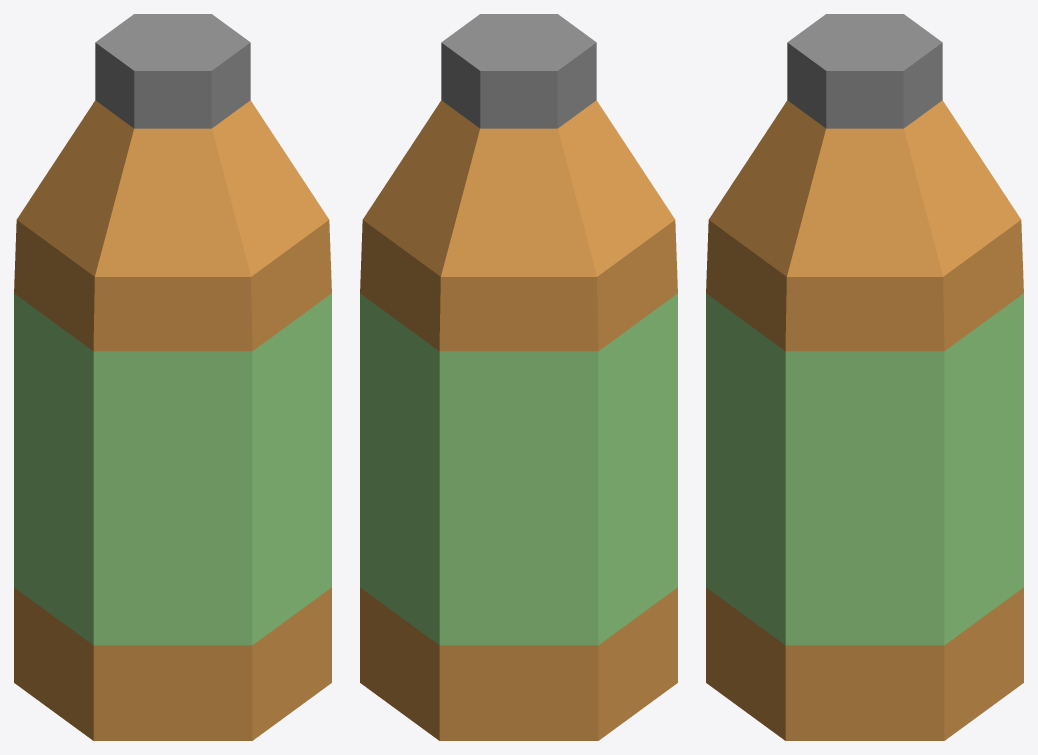
The model's file is juice.fbx.
The picture shows the model from 3 angles, left to right: view 1: azimuth 30°, elevation 25°; view 2: azimuth 150°, elevation 25°; view 3: azimuth 270°, elevation 25°; orthographic projection.
Parts seen in each view (by area): view 1: Cylinder; view 2: Cylinder; view 3: Cylinder.
Boxes of the visible parts, <box> form: Cylinder: <box>14,14,331,740</box>; Cylinder: <box>360,14,677,740</box>; Cylinder: <box>706,14,1023,740</box>.
Bounding box in the file's own units: 8.66 × 22.22 × 10.
